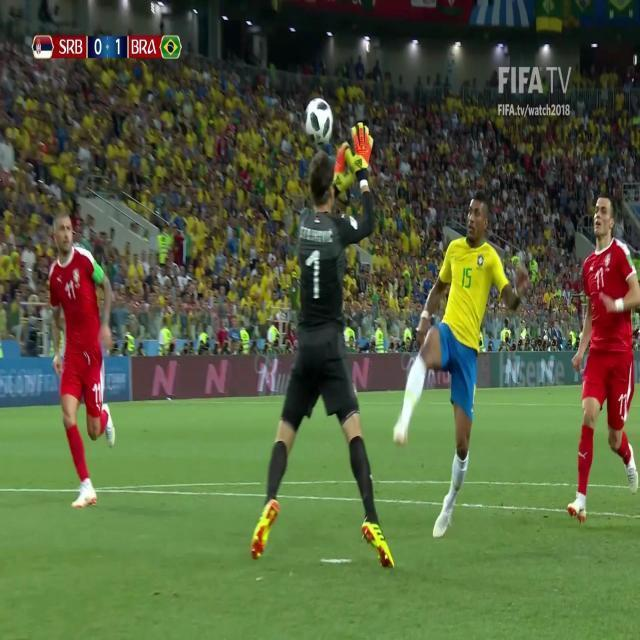ball: (302, 87, 338, 147)
player: (257, 129, 396, 576), (387, 193, 532, 538), (557, 195, 640, 529), (44, 208, 126, 518)
